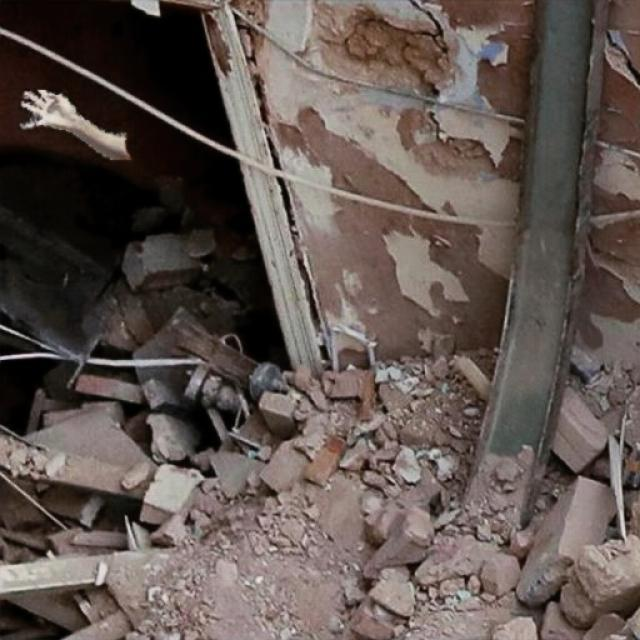Person in Rubble: (20, 90, 130, 159)
